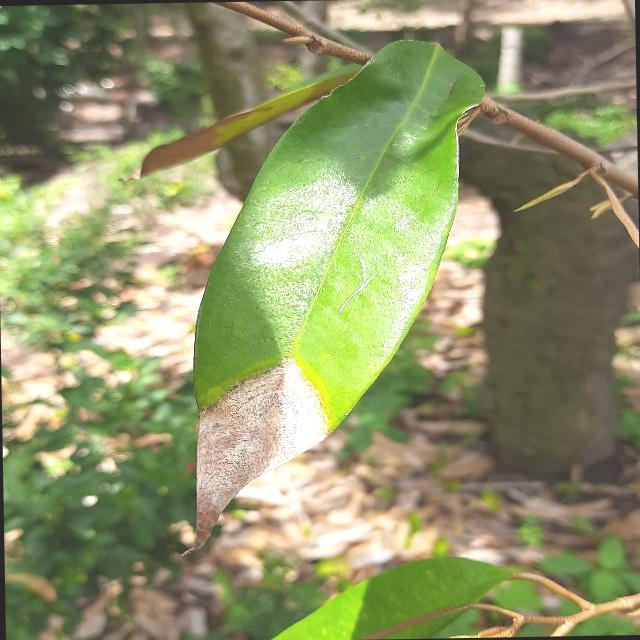Leaf Blight: (178, 28, 507, 558)
